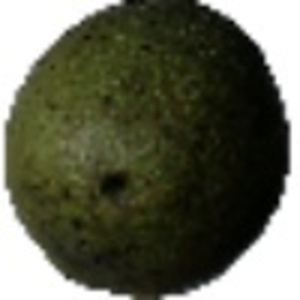abacate: (2, 3, 291, 288)
